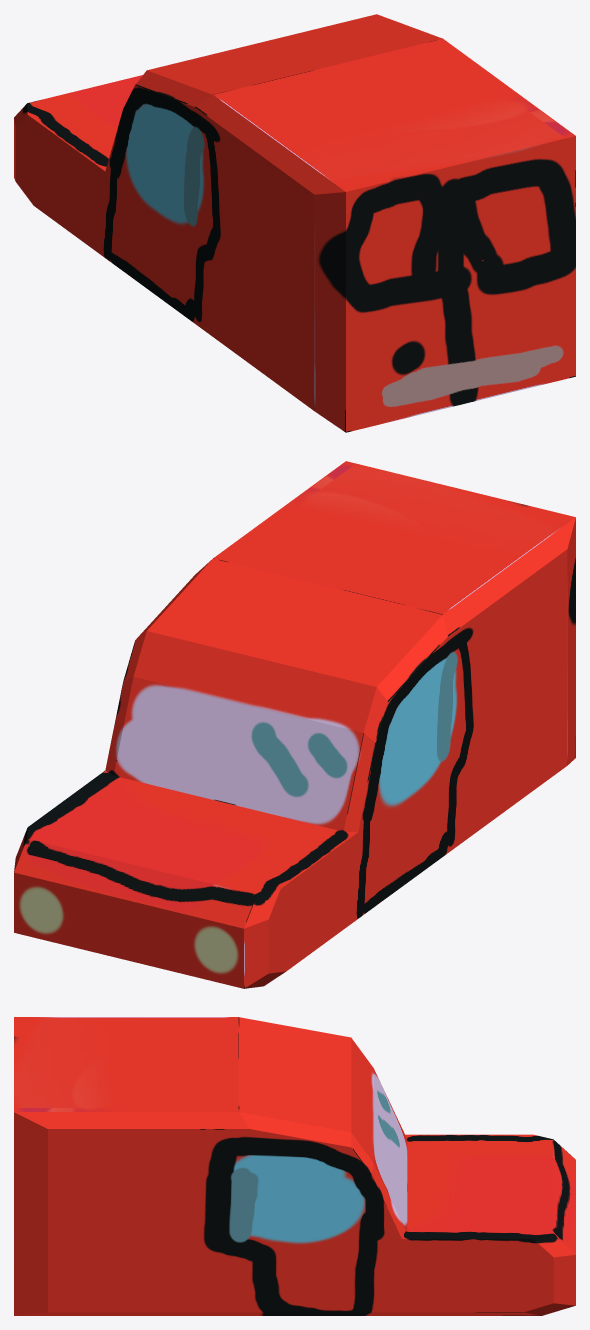
Rendered from furgo-roja.glb.
3 renders of one model, top to bottom at view 1: azimuth 30°, elevation 25°; view 2: azimuth 150°, elevation 25°; view 3: azimuth 270°, elevation 25°, orthographic. The views are drawn at different scales.
Visible parts, largest first — view 1: Plano; view 2: Plano; view 3: Plano.
Boxes of the visible parts, x1=… form: Plano: x1=14, y1=14, x2=575, y2=432; Plano: x1=14, y1=461, x2=575, y2=988; Plano: x1=14, y1=1017, x2=575, y2=1315.
Size of the model in its own units: 2.2 by 2 by 5.
Materials: 1 (1 with a texture image).
